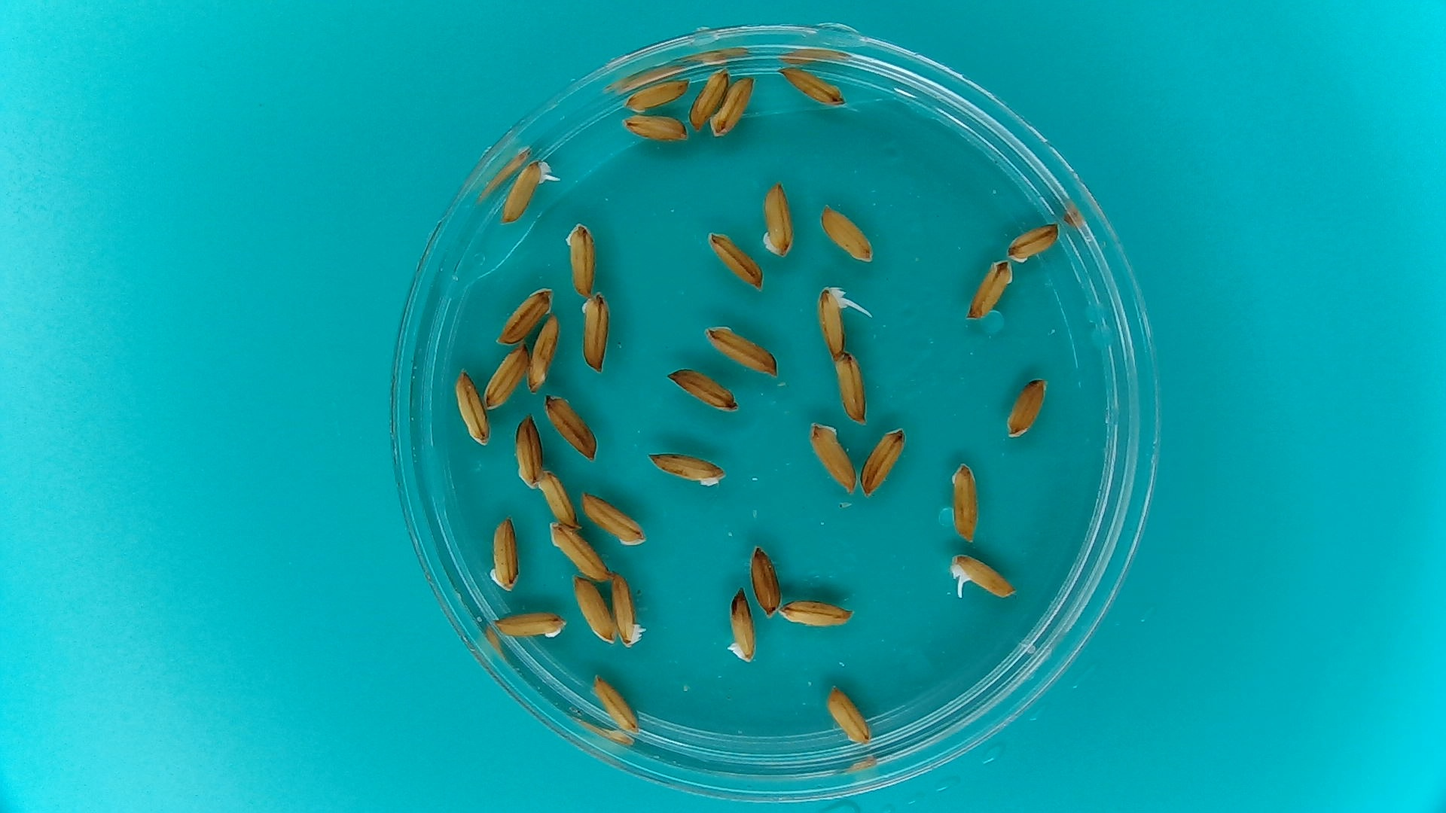no: (703, 324, 782, 376), (543, 393, 600, 461), (550, 522, 613, 583), (581, 489, 646, 547), (808, 419, 858, 492), (664, 367, 741, 414), (707, 228, 764, 291), (859, 428, 908, 498), (819, 202, 875, 263), (497, 286, 554, 344), (592, 671, 641, 735), (483, 343, 529, 411), (824, 683, 872, 748), (573, 574, 618, 642), (611, 570, 649, 650), (966, 259, 1015, 321), (709, 74, 757, 137), (485, 516, 523, 595), (453, 368, 491, 446), (760, 181, 797, 260), (646, 451, 727, 487), (776, 65, 846, 105), (1005, 376, 1048, 439), (563, 221, 598, 297), (527, 315, 560, 394), (724, 586, 756, 665), (689, 69, 731, 129), (580, 295, 611, 375), (951, 462, 981, 544), (834, 352, 869, 422), (624, 76, 690, 113), (514, 413, 545, 490), (538, 470, 578, 529), (1005, 221, 1062, 262), (750, 545, 782, 617), (491, 610, 569, 639), (779, 598, 853, 628), (623, 114, 689, 142)
yes: (499, 160, 550, 224), (949, 550, 1017, 598), (818, 286, 851, 358)
